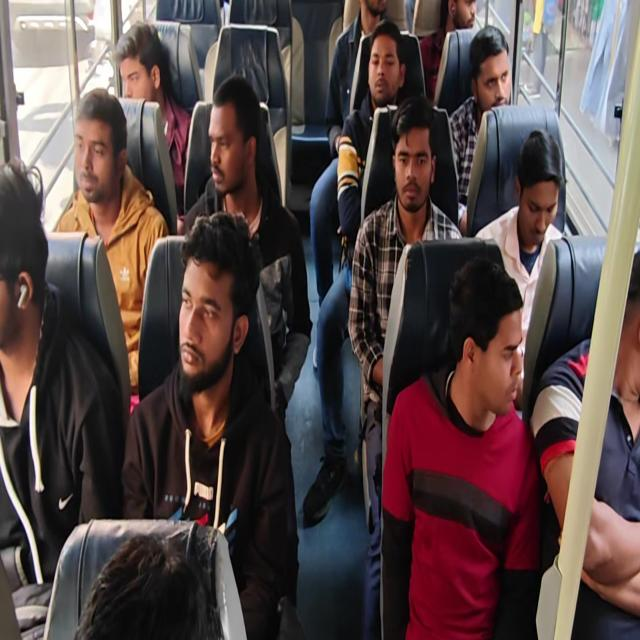person: (1, 2, 638, 638), (120, 210, 299, 638), (347, 94, 463, 637), (380, 256, 541, 638), (0, 158, 123, 638), (302, 18, 408, 526), (180, 74, 312, 424), (530, 248, 639, 637), (54, 88, 170, 410), (309, 0, 406, 306), (474, 127, 564, 410), (74, 532, 222, 639), (113, 21, 192, 217), (448, 25, 513, 232), (418, 0, 477, 104)
